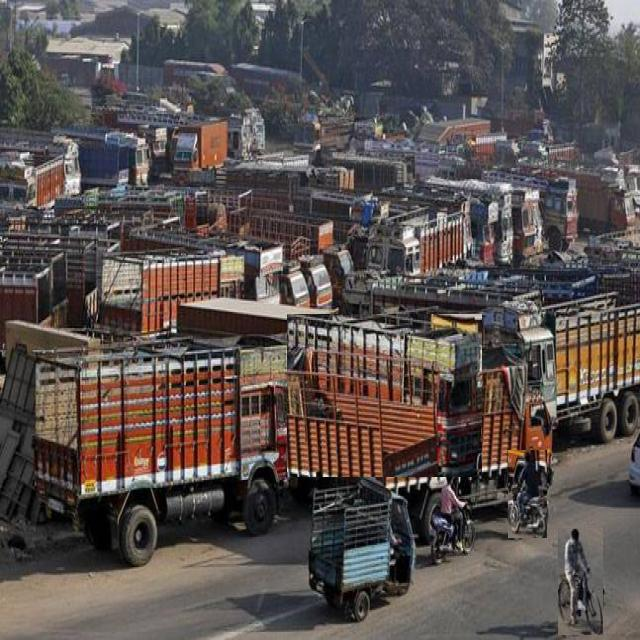bicycle: (559, 529, 603, 635)
motorcycle: (509, 451, 547, 538)
truck: (34, 338, 290, 564), (331, 350, 551, 540), (287, 315, 482, 477)
